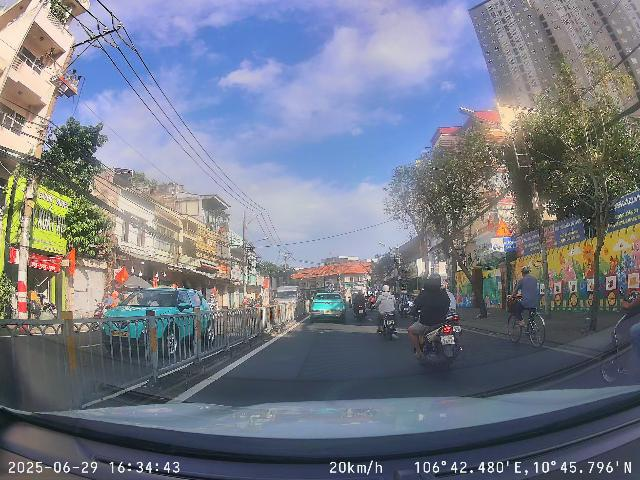201-cho-ngoat-nguy-hiem: (495, 219, 511, 236)
